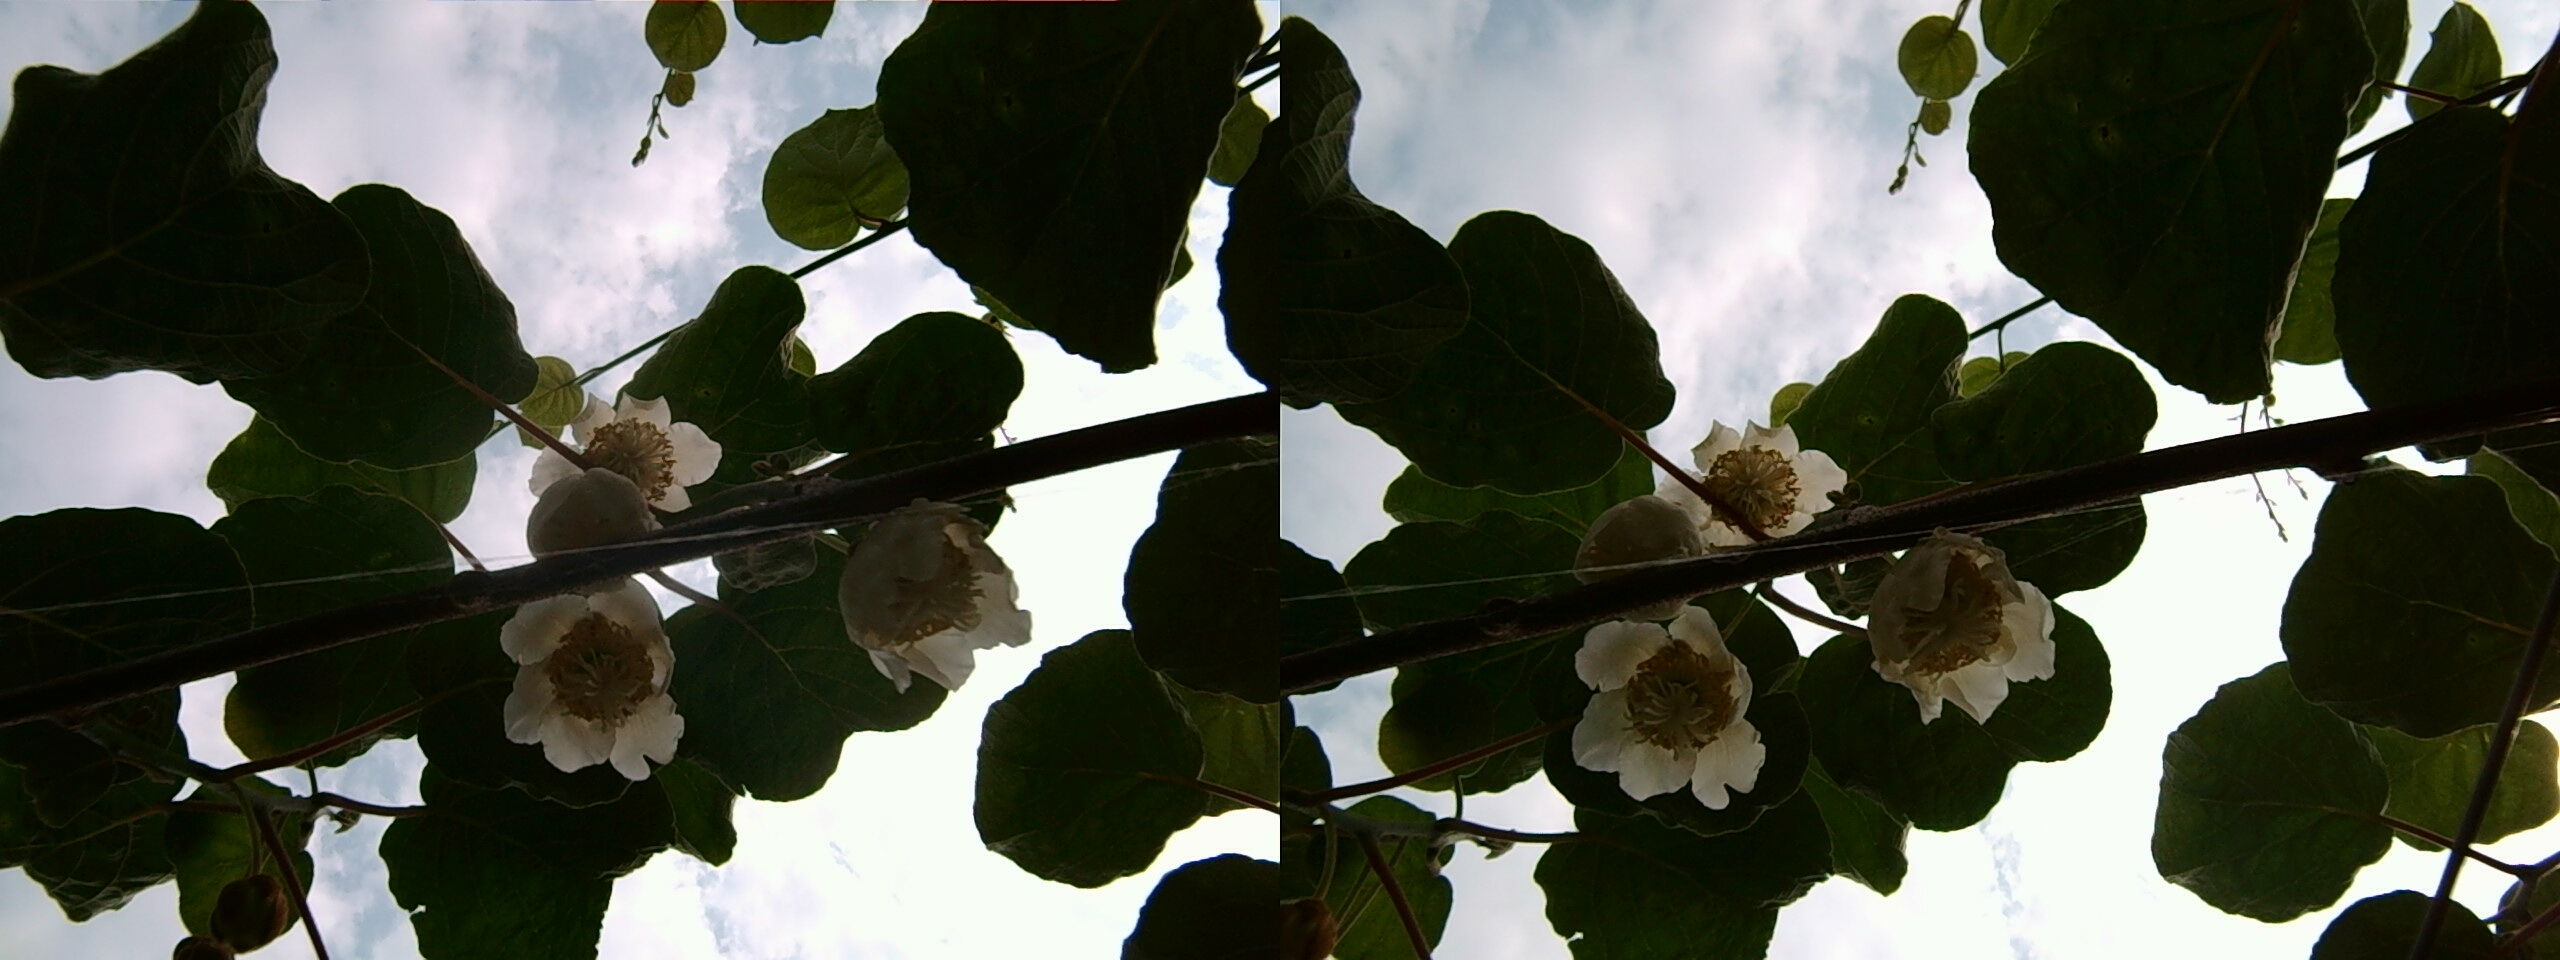flower: (1558, 593, 1771, 810), (487, 571, 692, 779), (1863, 529, 2065, 718), (841, 501, 1027, 682), (544, 392, 723, 518), (1673, 411, 1843, 532)
